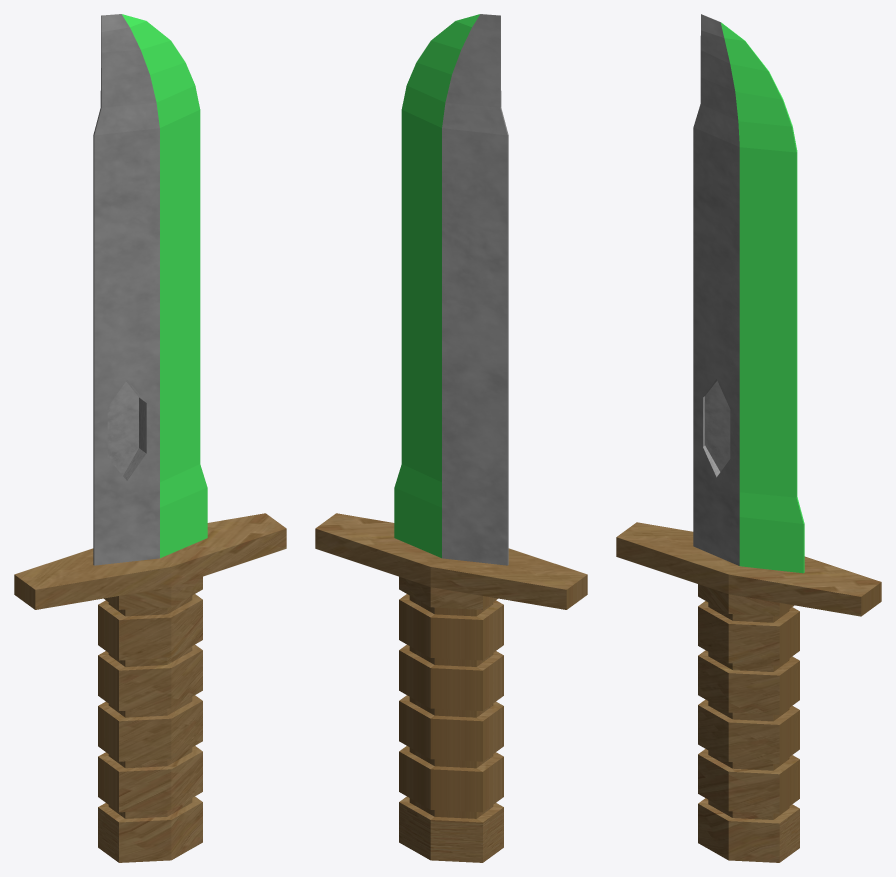
File: item_knife_emerald.fbx
3 views of the same model, side by side, from view 1: azimuth 30°, elevation 25°; view 2: azimuth 150°, elevation 25°; view 3: azimuth 330°, elevation 25° (orthographic). The views are drawn at different scales.
Parts seen in each view (by area): view 1: Cylinder; view 2: Cylinder; view 3: Cylinder.
Part boxes in pixels (box(x1,y1,x2,y2)): Cylinder: box(14, 14, 286, 862); Cylinder: box(315, 14, 587, 862); Cylinder: box(616, 14, 881, 862).
Bounding box in the file's own units: 520 × 1662 × 150.
Materials: 3 (2 with a texture image).
